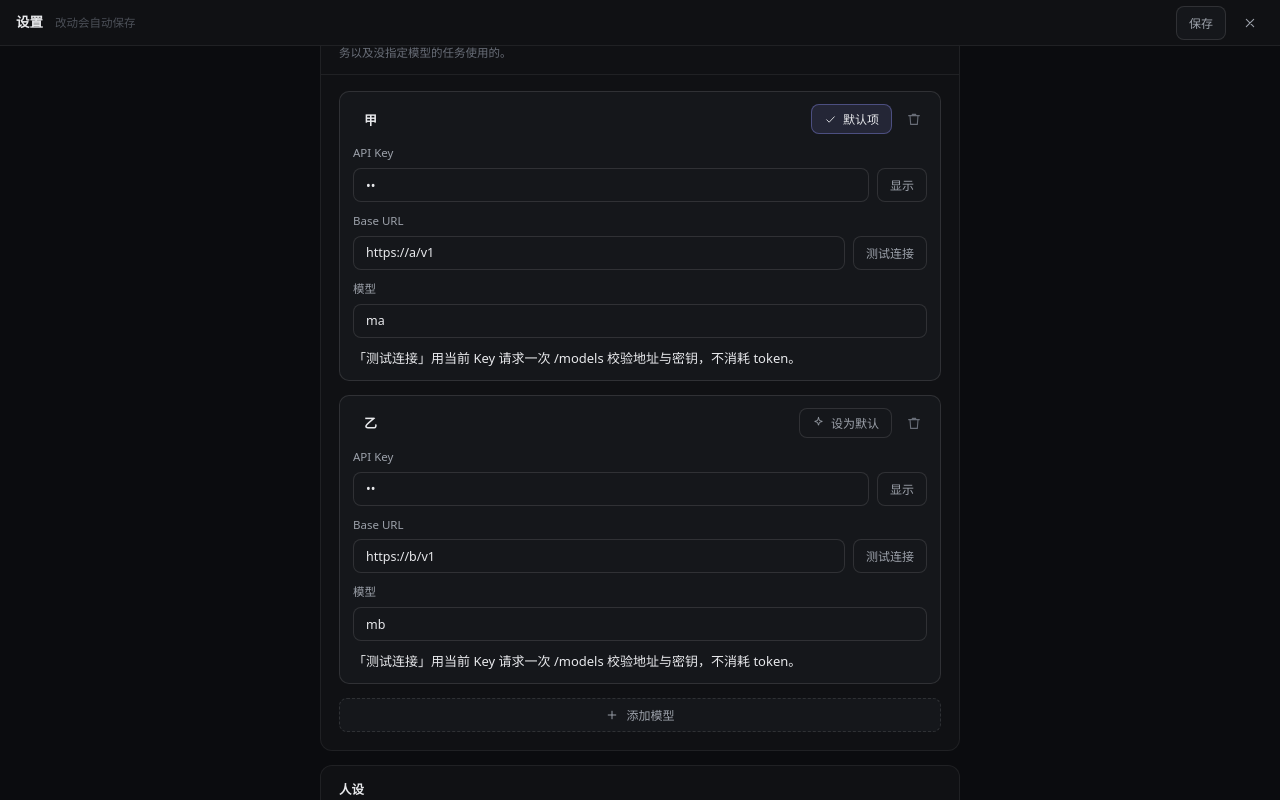
Test: 设置项 › 把乙设为默认会同时写出 active_model
(page scrolled)
Click the button "设为默认" at (846, 423), box [799,408,892,438]
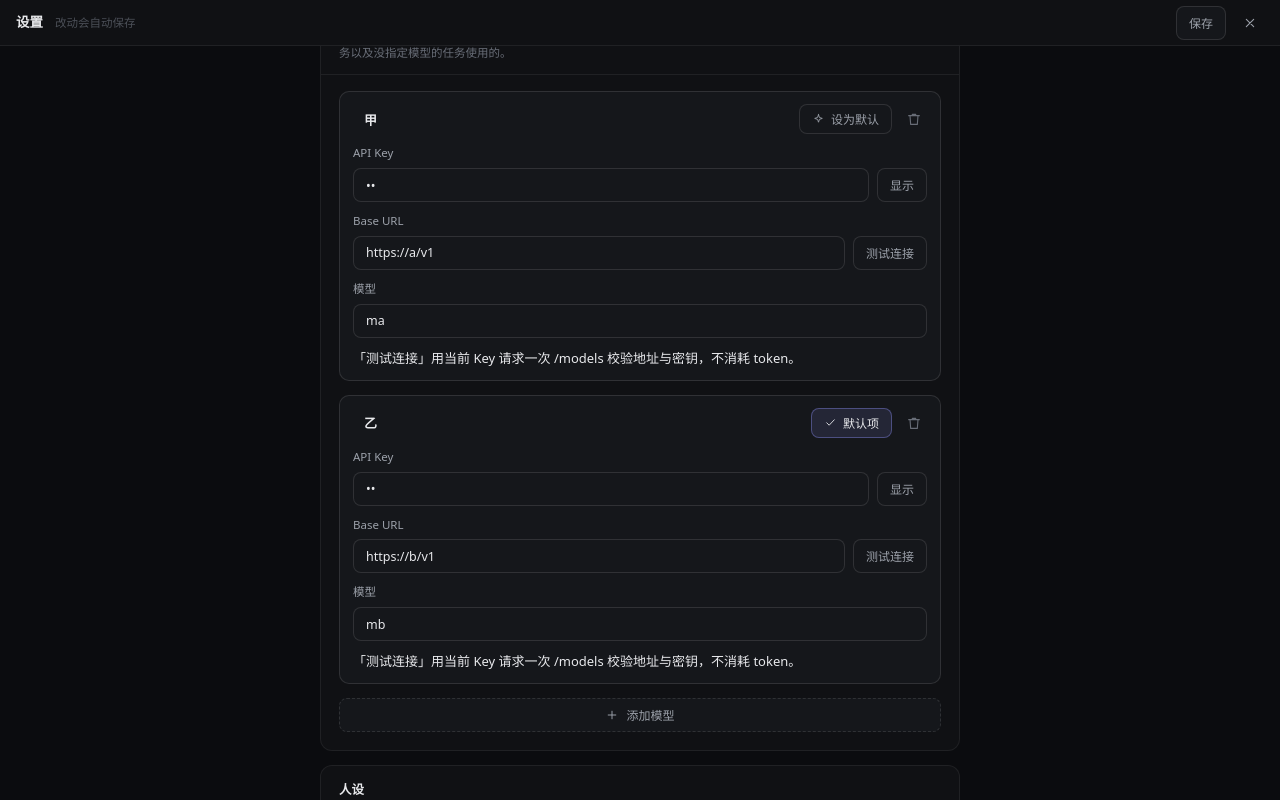
Now the button "默认项" is shown, box [811,408,892,438]
